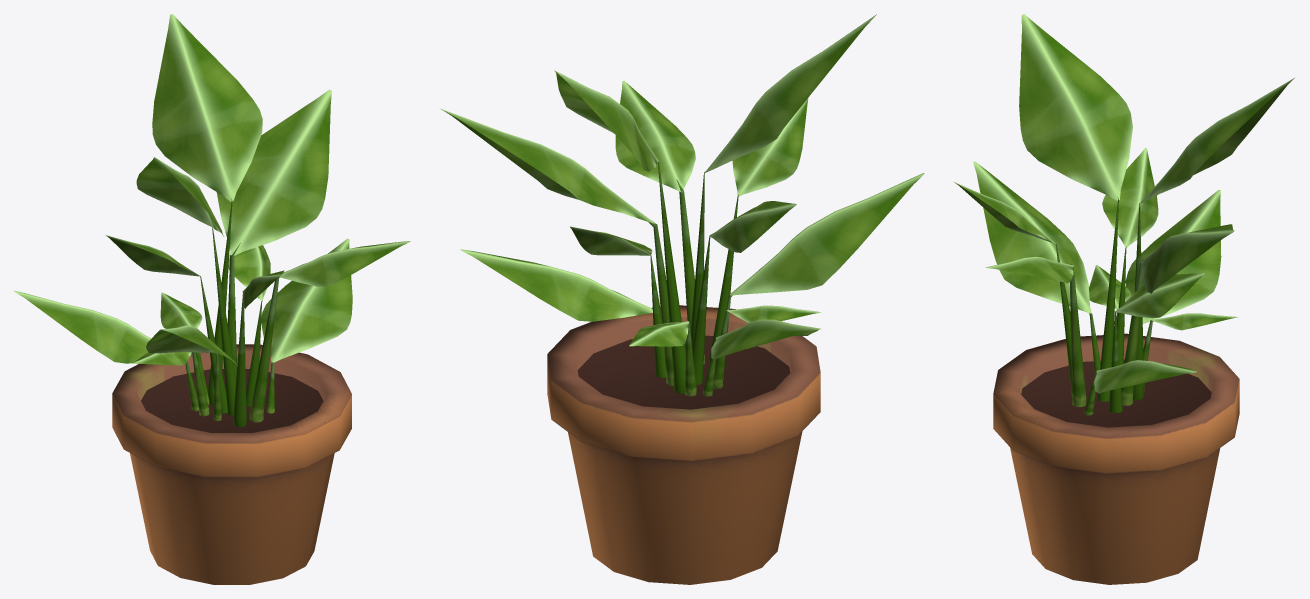
File: plantSmall_textured.fbx
3 renders of one model, left to right at view 1: azimuth 30°, elevation 25°; view 2: azimuth 150°, elevation 25°; view 3: azimuth 270°, elevation 25°, orthographic. The views are drawn at different scales.
Parts seen in each view (by area): view 1: polySurface58; view 2: polySurface58; view 3: polySurface58.
Boxes of the visible parts, x1=… form: polySurface58: x1=14, y1=14, x2=410, y2=584; polySurface58: x1=440, y1=14, x2=924, y2=584; polySurface58: x1=953, y1=14, x2=1294, y2=584.
Bounding box in the file's own units: 5316 × 7321 × 4685.
Materials: 1 (1 with a texture image).
